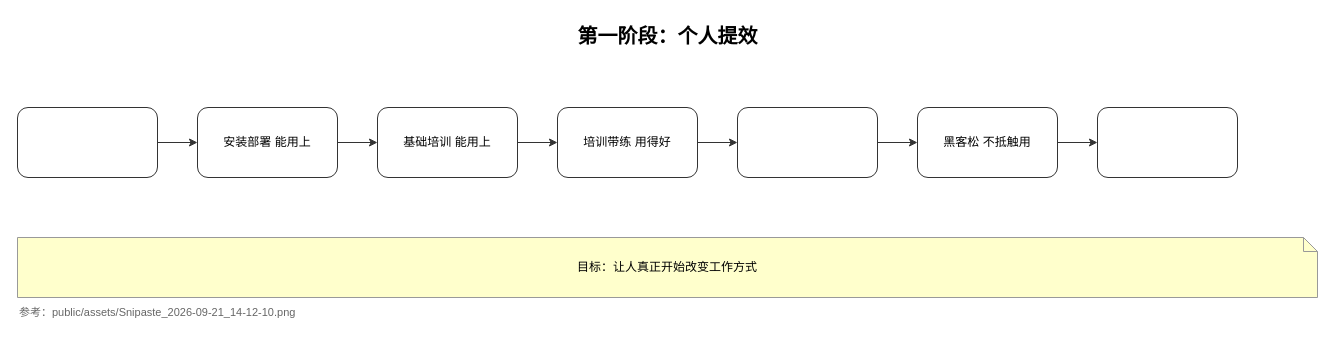
Image size: 1335x338. Some labels were removed from this diagram. Here are the shapes that lost their labels. From the top down, the centre of each, then its label:
point (87, 142): 不会用 AI 起点
point (807, 142): 轻度定制 用得好
point (1167, 142): 项目激励 文化调整 + 激励
